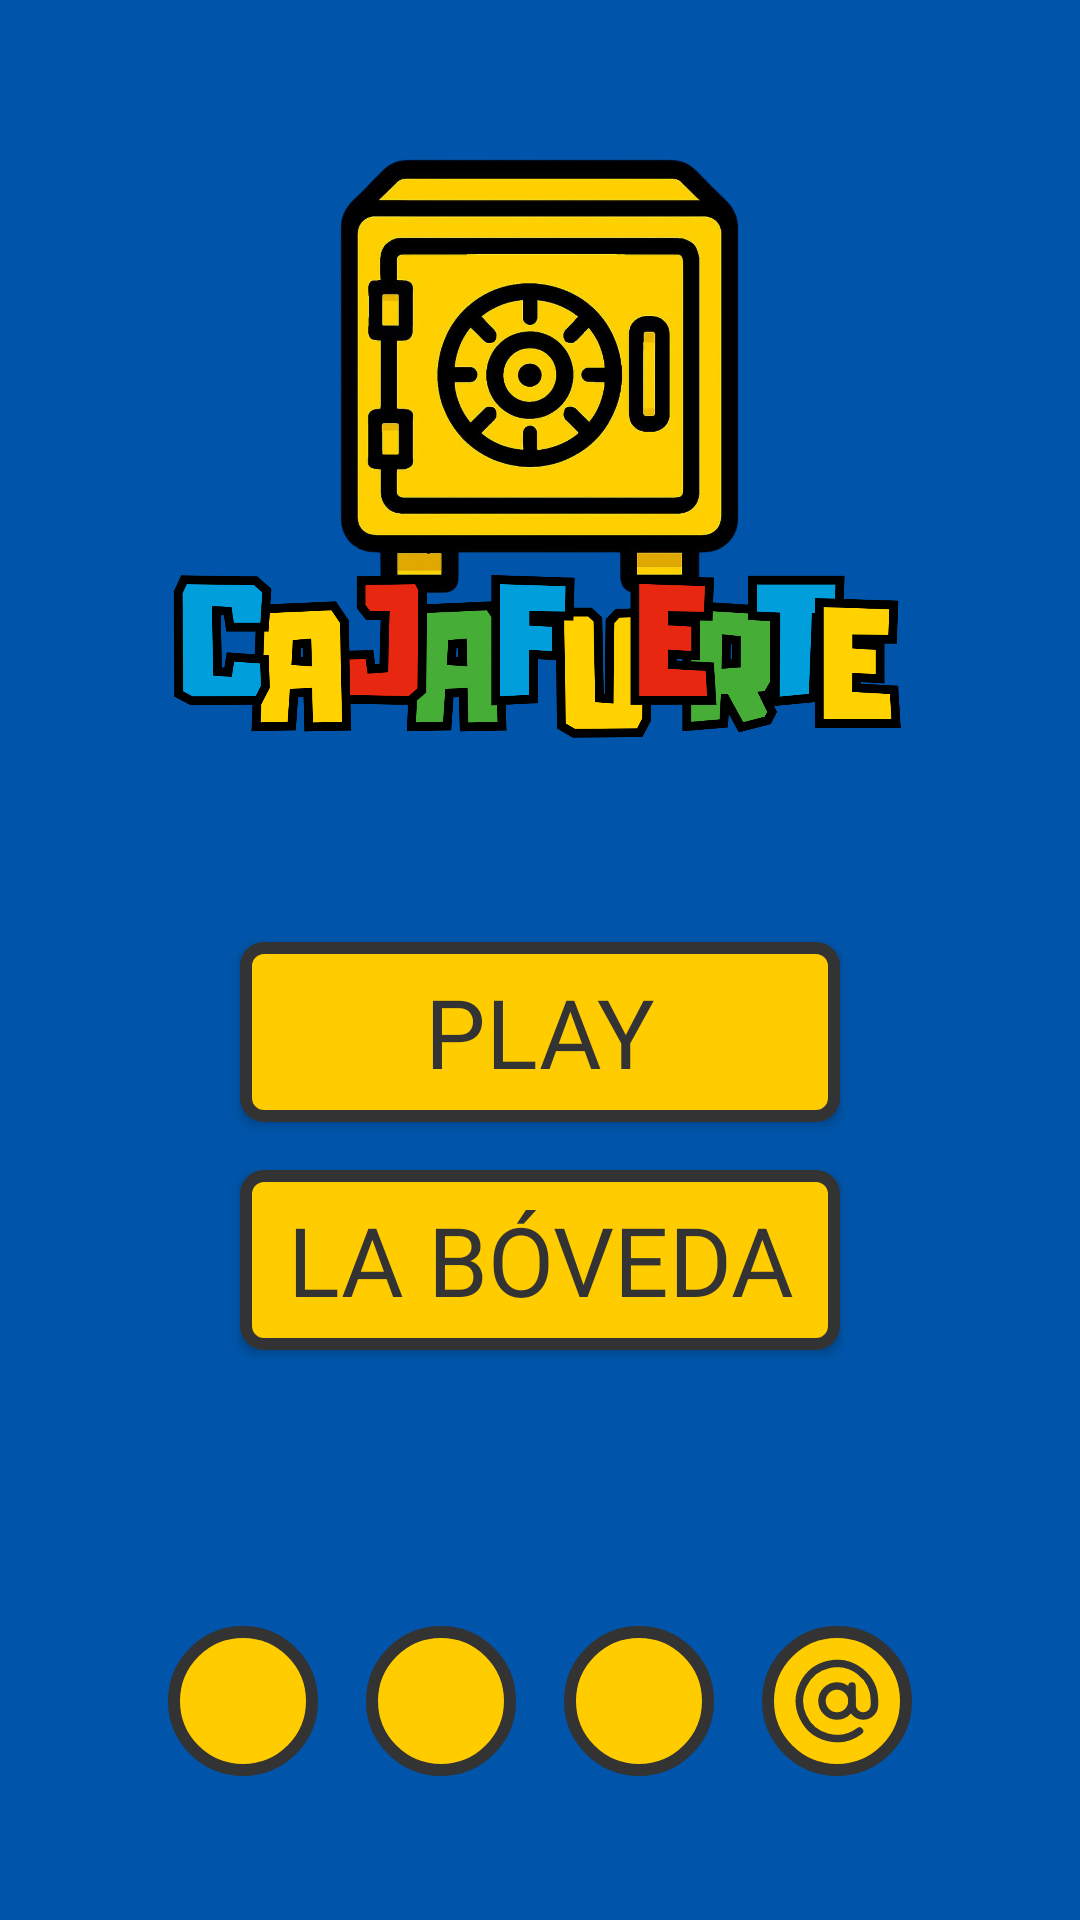

Point at icon controls on the screen. Image size 1080×1920, points as point (x, y).
arroba: point (837, 1701)
